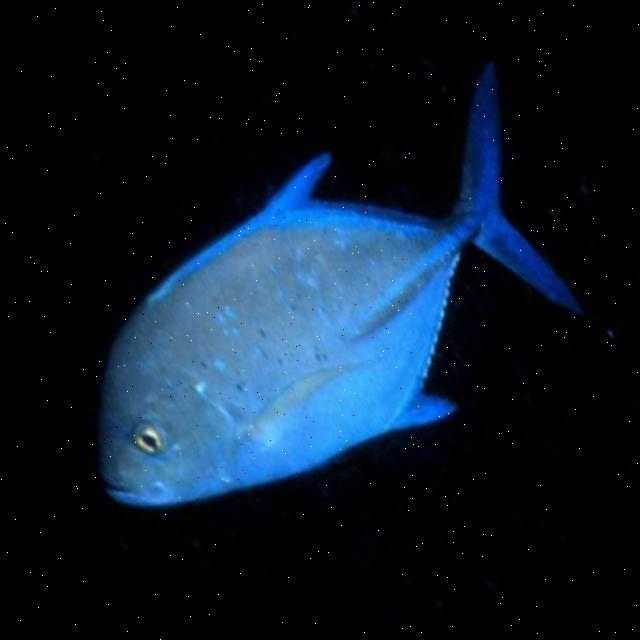ikan: (12, 36, 640, 607)
